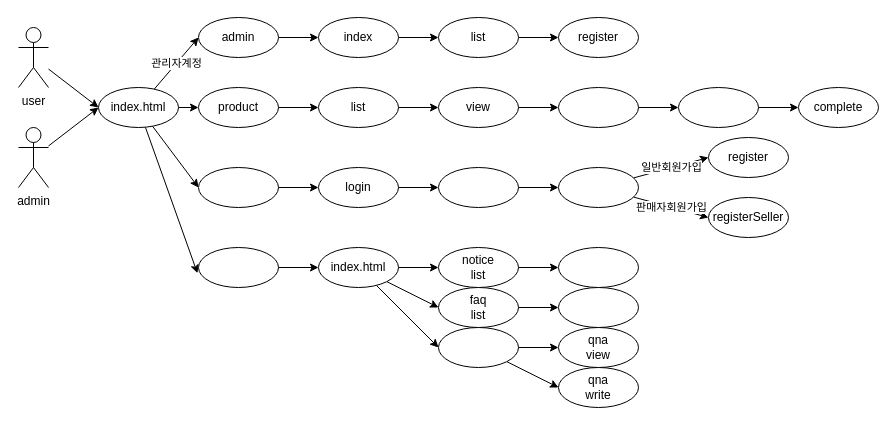
Some shapes in this 896 by 425 pixel diagram are drawn without their labels. The box of each missing label's shape, as (x1, y1, x2, y2) in pixels:
cart: (558, 86, 638, 128)
cs: (198, 246, 278, 288)
faq view: (558, 286, 638, 328)
join: (438, 166, 518, 208)
member: (198, 166, 278, 208)
notice view: (558, 246, 638, 288)
order: (678, 86, 758, 128)
qna list: (438, 326, 518, 368)
signup: (558, 166, 638, 208)
